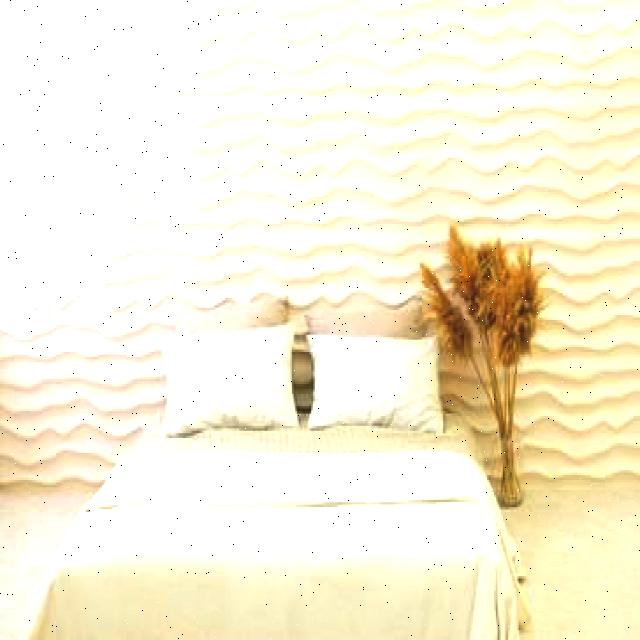bed: (47, 318, 515, 640)
